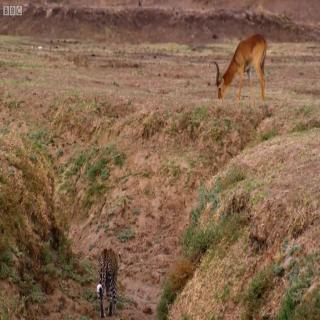Leopard: (92, 231, 128, 320)
